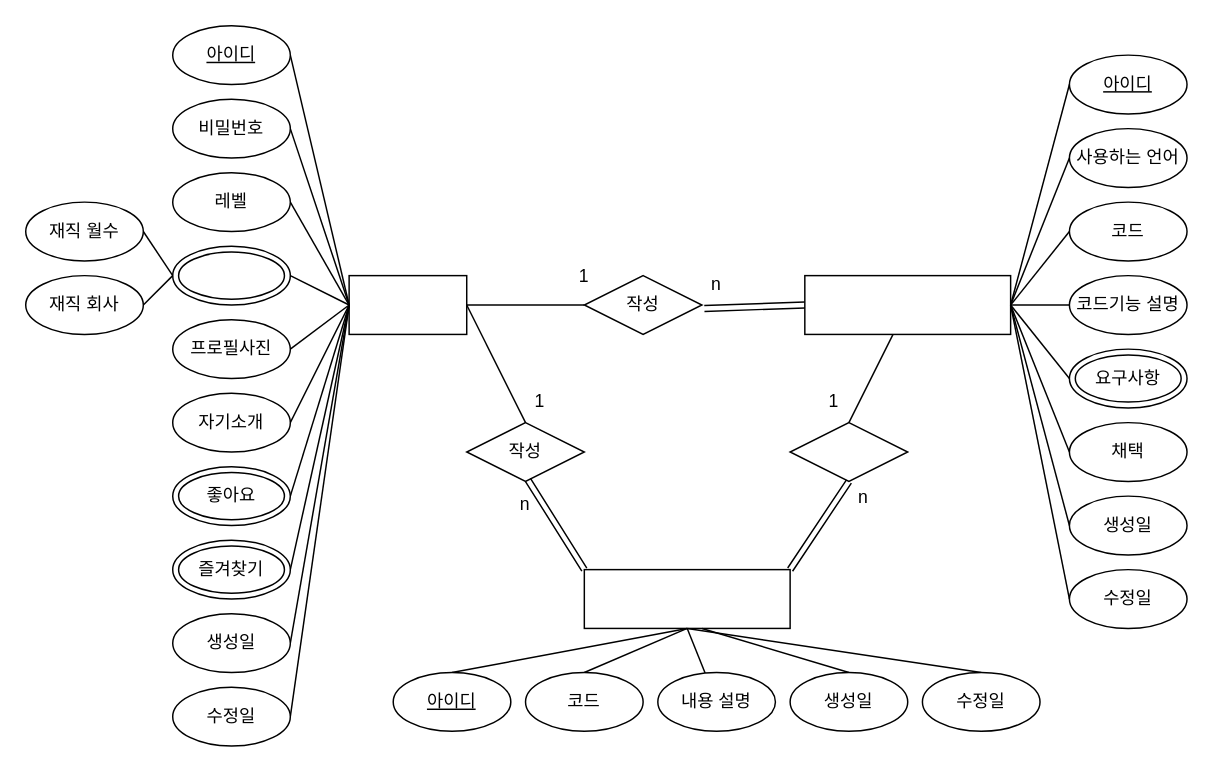
The diagram is 1213 pixels wide and 772 high, and some of its shapes have lost their labels. Each missing label, with the centre of its shape:
"경력" goes at (230,275).
"리팩토링" goes at (848,451).
"리팩토링 대상 코드" goes at (907,304).
"리팩토링 한 코드" goes at (686,598).
"회원" goes at (407,304).
